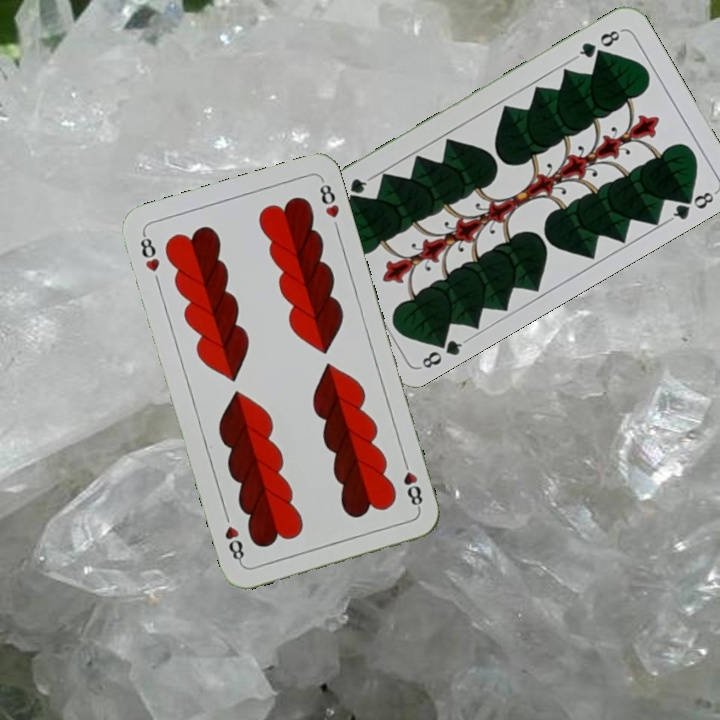G8: (416, 331, 470, 372), (571, 26, 625, 62)
H8: (398, 454, 425, 512), (136, 229, 163, 275)
